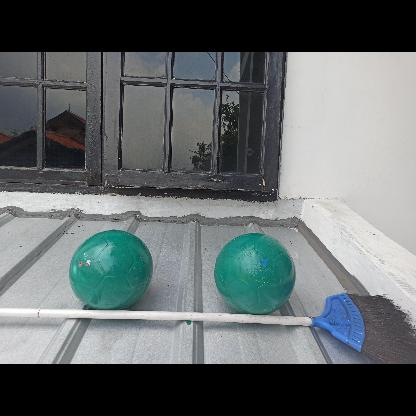green_ball: (212, 230, 294, 312), (70, 228, 152, 310)
